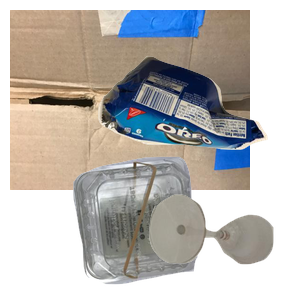cardboard: (10, 10, 250, 190)
glass: (147, 192, 300, 300)
plastic: (71, 154, 300, 300)
trash: (95, 53, 300, 195)
